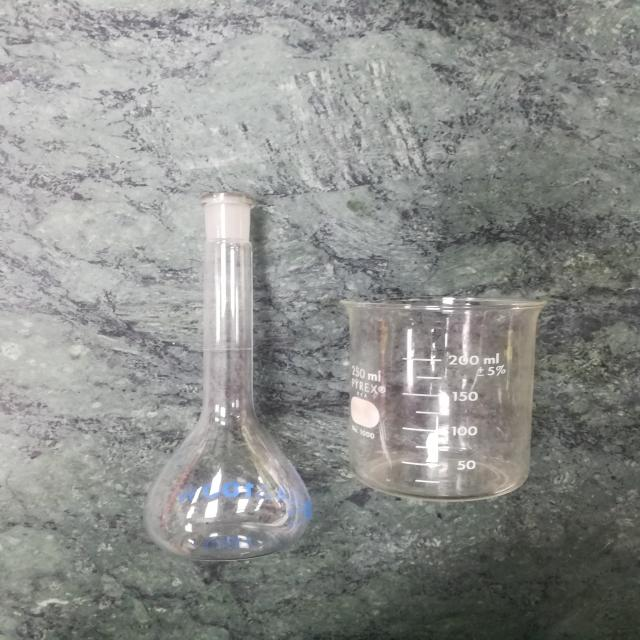Beaker: (340, 263, 573, 511)
Volumetric_Flask: (102, 179, 330, 567)
